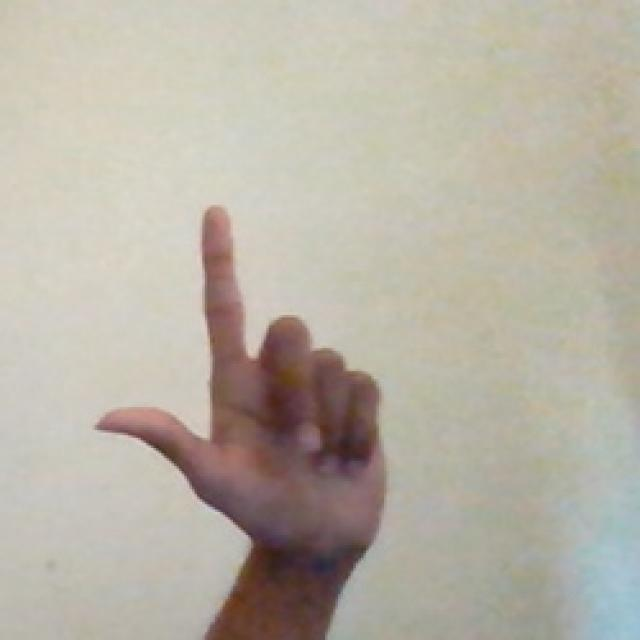Alphabet-L: (57, 172, 377, 624)
